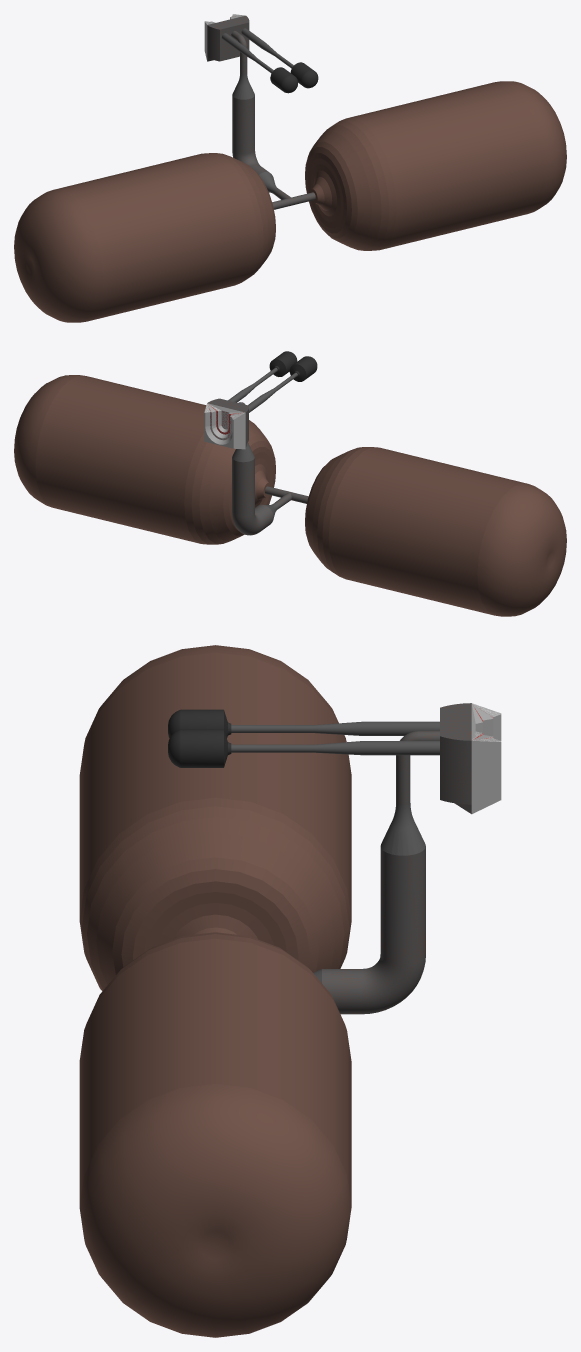
The model's file is PropFuel.dae.
3 views of the same model, one above another, from view 1: azimuth 30°, elevation 25°; view 2: azimuth 150°, elevation 25°; view 3: azimuth 270°, elevation 25° (orthographic). The views are drawn at different scales.
Parts seen in each view (by area): view 1: Group_25 (×3), group_2 (×2), group_6 (×2), group_3, group_4, pipeFuelSmall; view 2: Group_25 (×3), group_2 (×2), group_1, group_6 (×2), group_3, pipeFuelSmall; view 3: Group_25 (×3), group_2 (×3), pipeFuelSmall (×2), group_6 (×2), group_1, group_4.
Boxes of the visible parts, <box> form: Group_25 (×3): <box>14,81,566,322</box>; group_2 (×2): <box>207,15,269,174</box>; group_6 (×2): <box>270,62,318,93</box>; group_3: <box>272,188,315,209</box>; group_4: <box>232,73,254,99</box>; pipeFuelSmall: <box>241,28,293,68</box>; Group_25 (×3): <box>14,375,566,616</box>; group_2 (×2): <box>207,398,273,535</box>; group_1: <box>204,403,245,449</box>; group_6 (×2): <box>269,351,317,381</box>; group_3: <box>265,486,308,508</box>; pipeFuelSmall: <box>248,372,297,412</box>; Group_25 (×3): <box>79,645,351,1337</box>; group_2 (×3): <box>322,703,471,1014</box>; pipeFuelSmall (×2): <box>231,721,439,755</box>; group_6 (×2): <box>168,709,227,767</box>; group_1: <box>471,703,501,813</box>; group_4: <box>380,803,425,855</box>.
Size of the model in its own units: 65.75 by 23.04 by 23.73.
